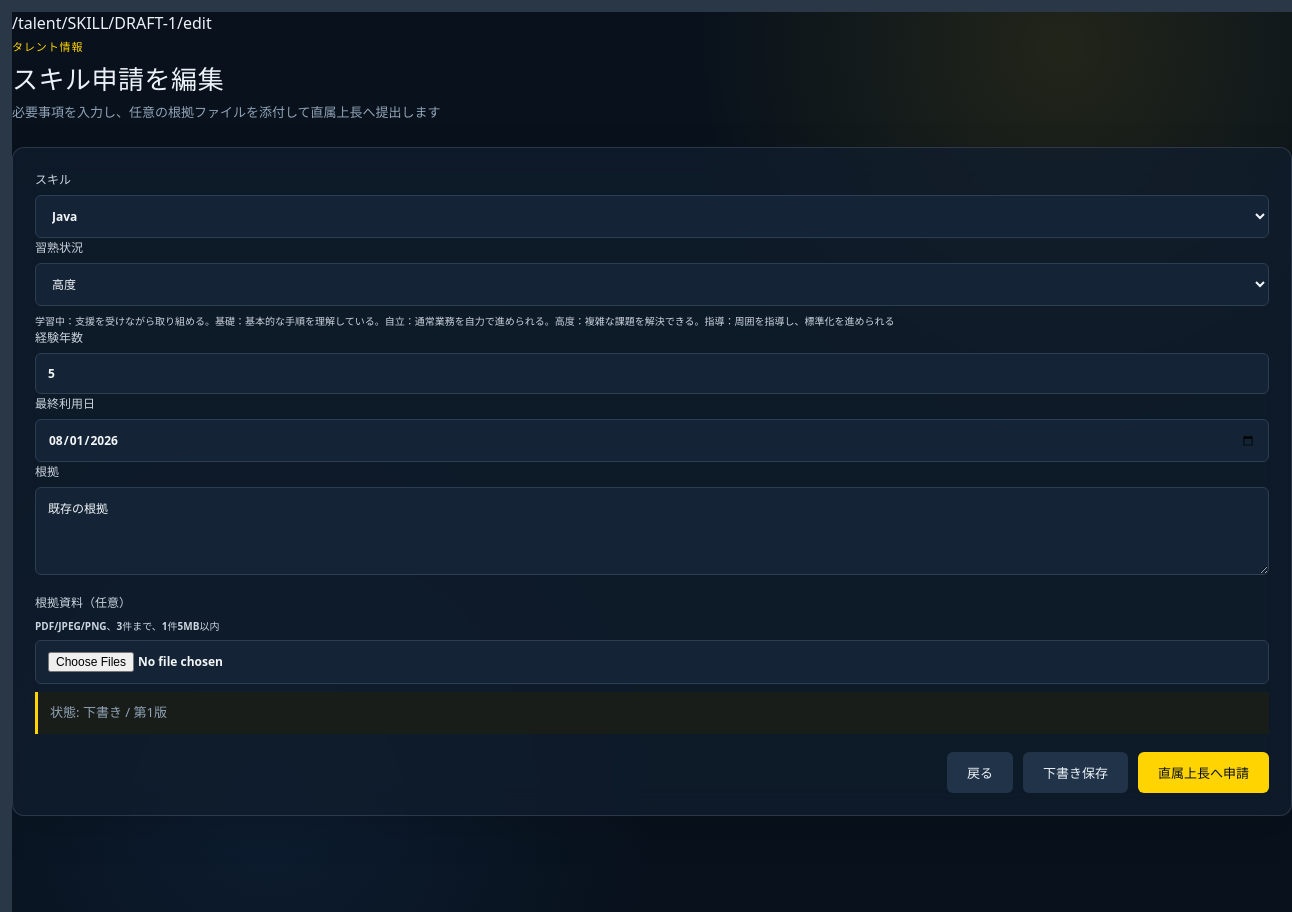
Test: TalentSubmissionFormPage › 既存下書きのpayloadとversionを読み込み同じpublicIdへ保存する
The image size is (1292, 912).
Expected: the text box showing "既存の根拠" is shown, left=35, top=487, right=1269, bottom=575
Expected: the dropdown showing "高度" is shown, left=35, top=263, right=1269, bottom=306
Step 1. Click the button "下書き保存" → click(1076, 772), box left=1023, top=752, right=1128, bottom=793
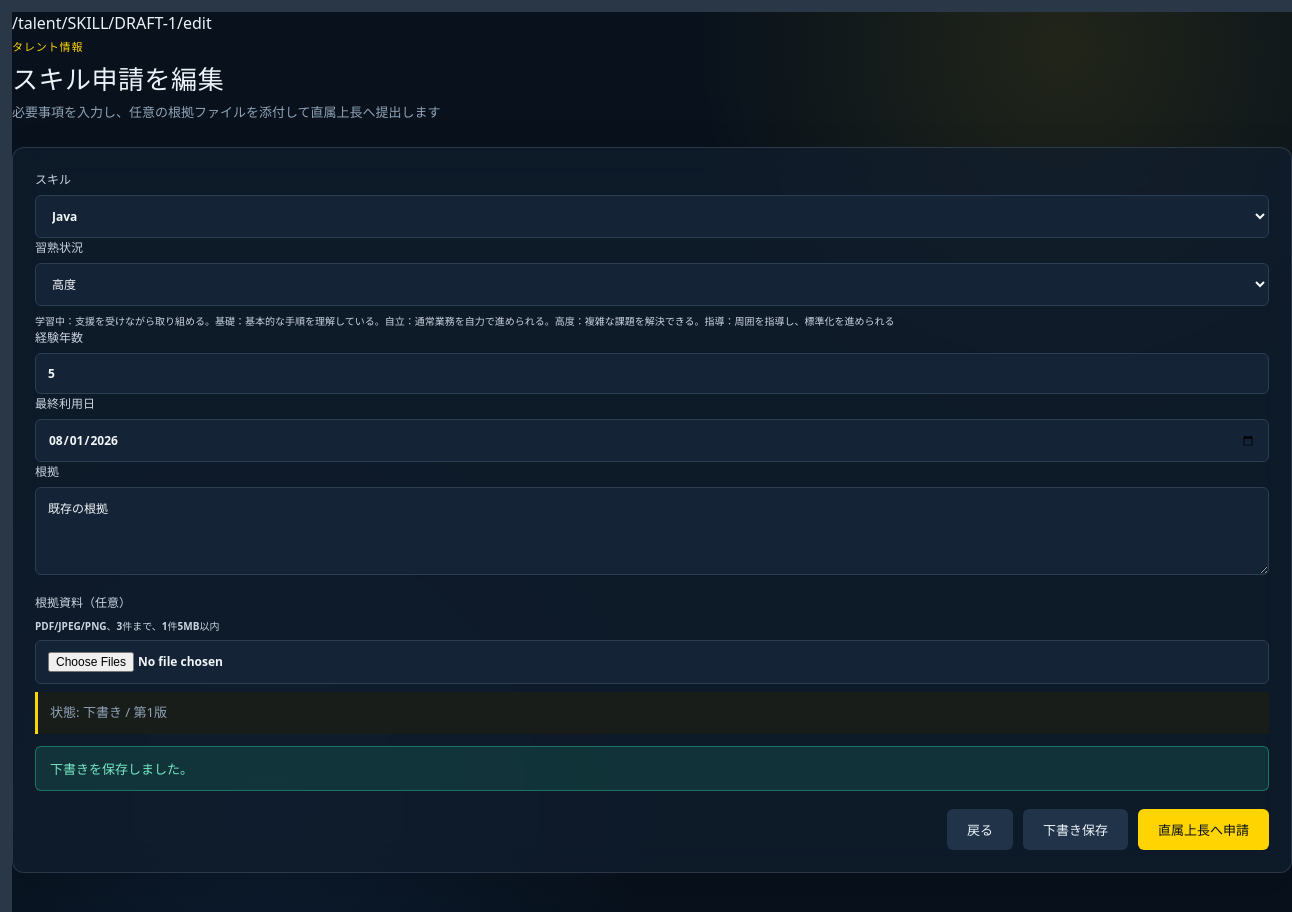
Now the message shows "下書きを保存しました", box left=50, top=760, right=193, bottom=778
